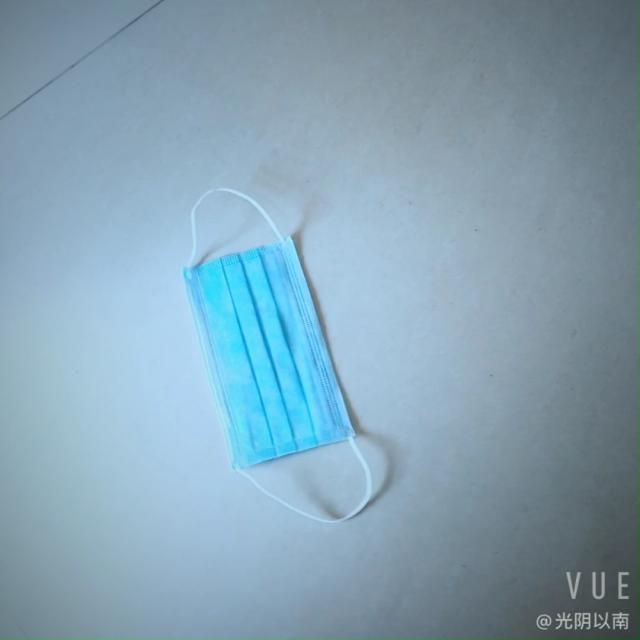face mask: (165, 240, 368, 482)
